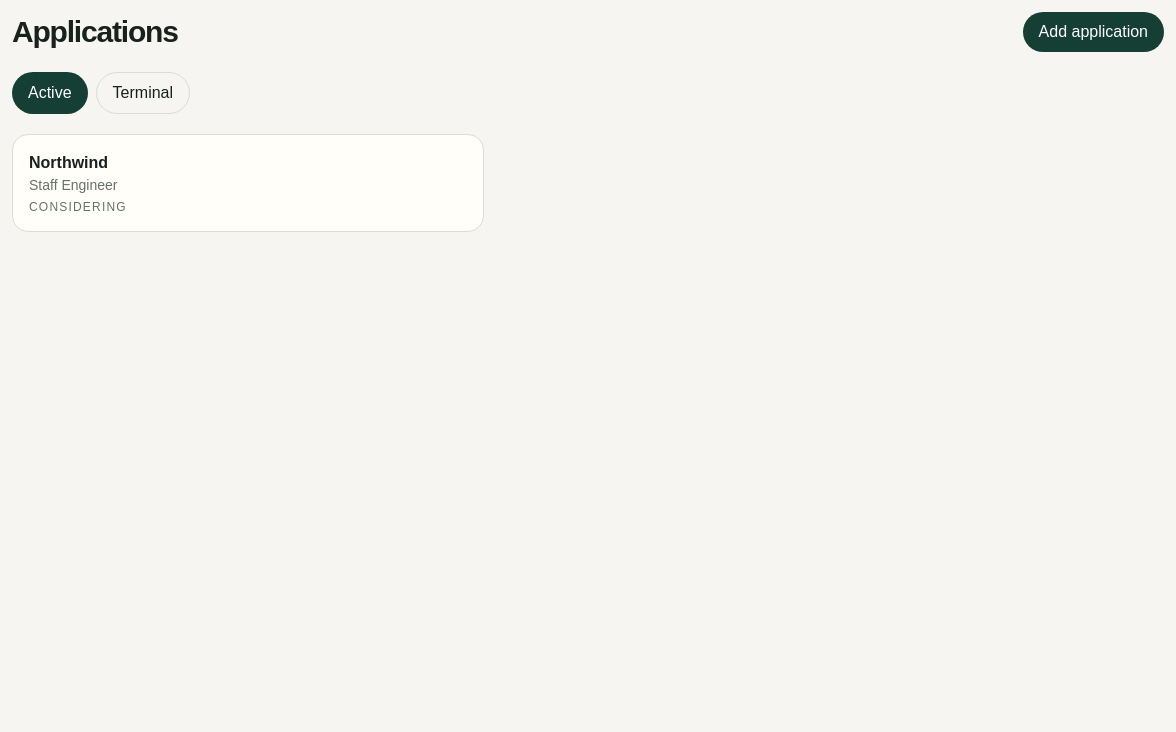
Scenario: ApplicationsView › loads and renders the opportunity's real persisted event history when it is selected
Step 1. Click the button "Northwind Staff Engineer considering" → click(69, 162), box [12,134,484,232]
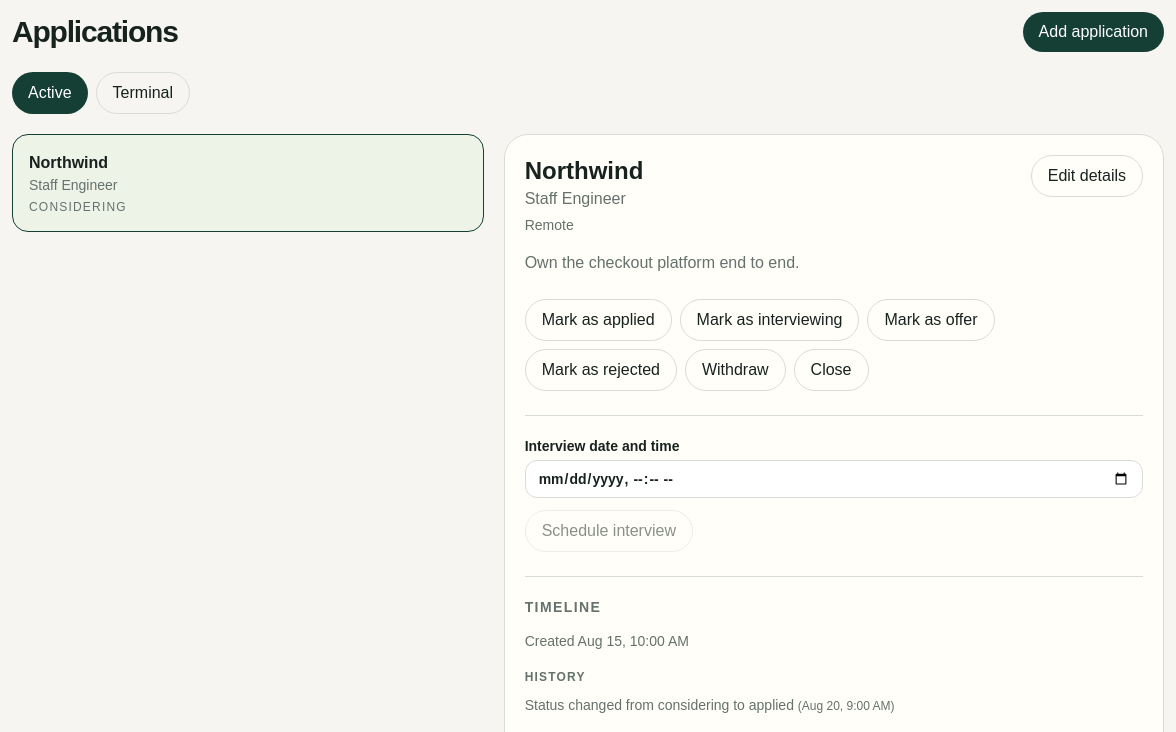
Result: the list item "Status changed from considering to applied (Aug 20, 9:00 AM)" is shown at [525,697,895,713]
